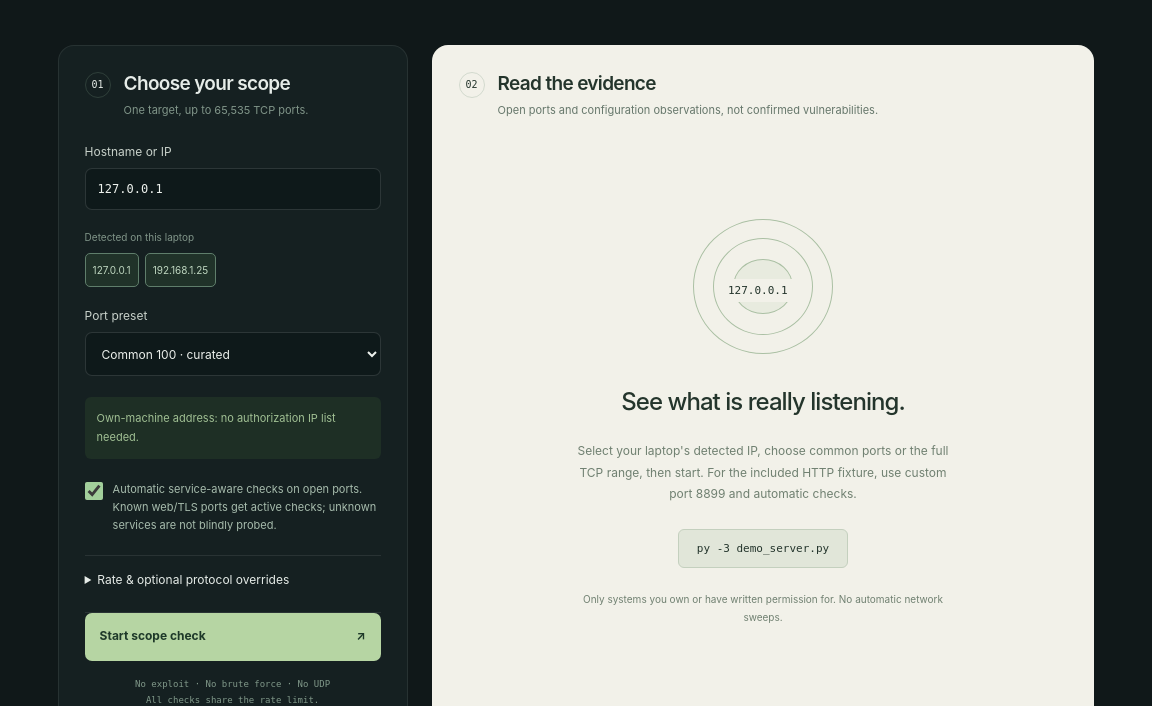
Test: full-range local workbench › submits all preset and automatic checks, not stale port assumptions
(page scrolled)
expect the button "192.168.1.25" is shown: met, box [145,253,216,287]
Select "All TCP · 1-65535" in the dropdown labelled "Port preset". click: (233, 354)
box: [85,332,381,376]
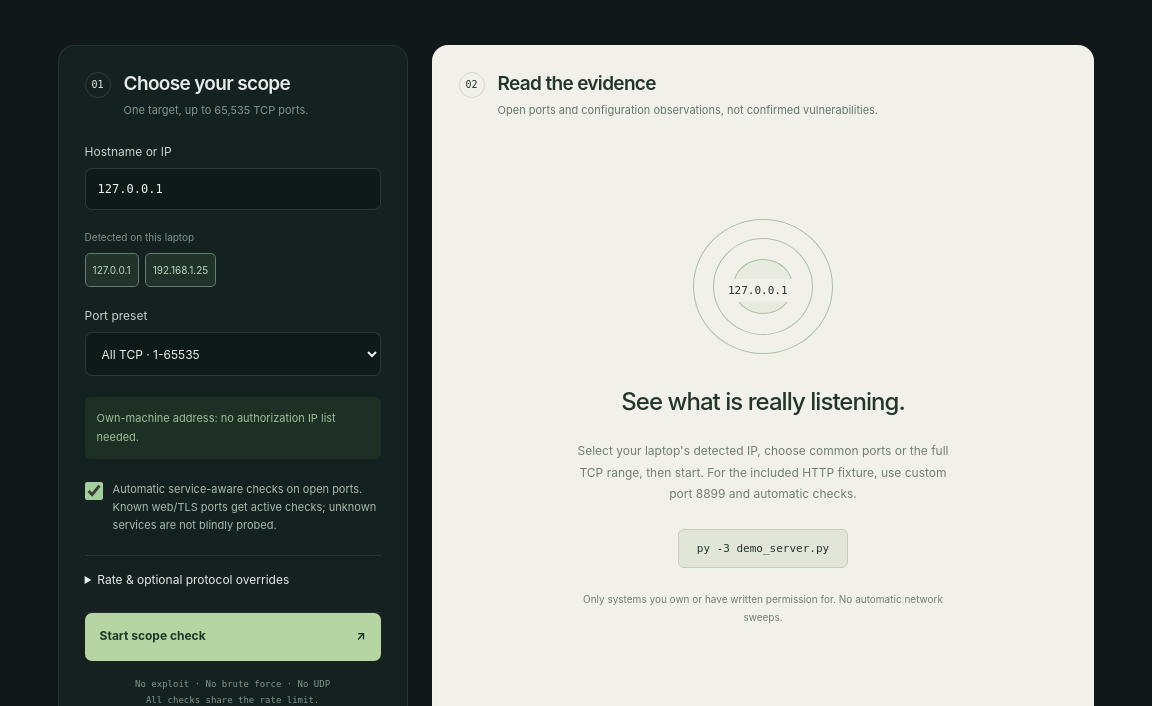
Click the button "Start scope check ↗". click: (153, 636)
box: [85,613,381,661]
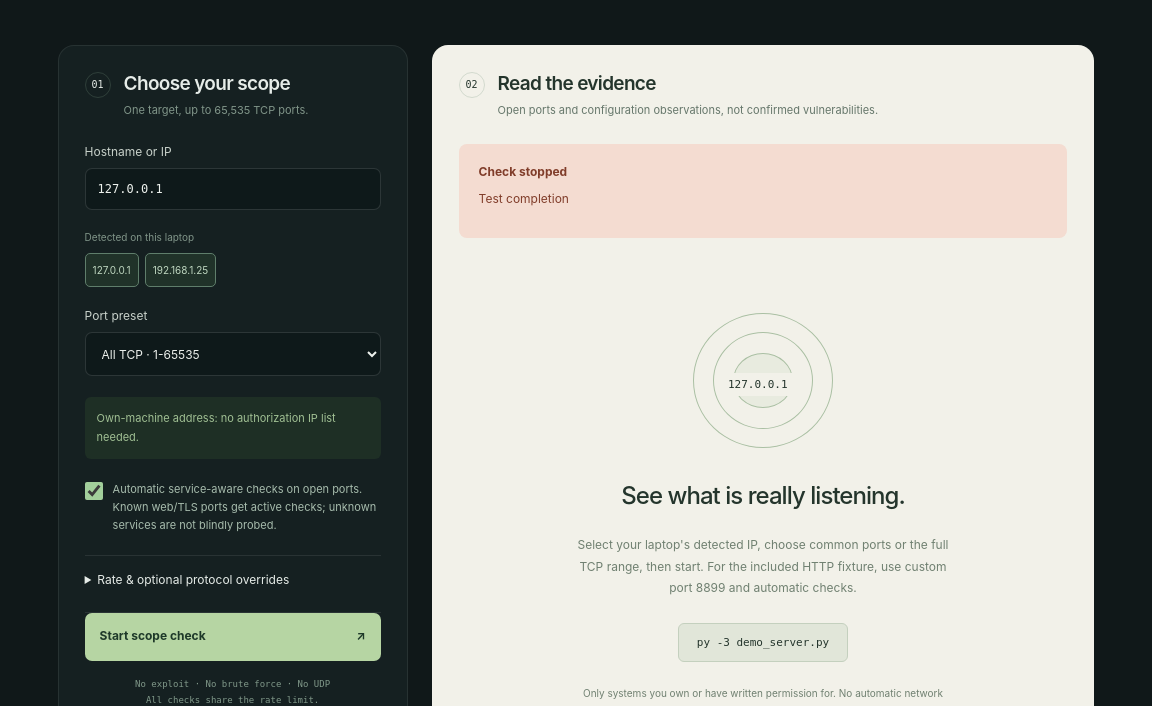
expect the message "Check stopped Test completion" is shown: met, box [459,144,1067,238]
